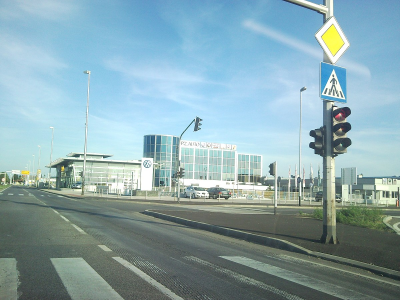crosswalk: (320, 67, 347, 101)
priority_road: (315, 15, 349, 64)
trafficlight_red: (332, 106, 352, 156)
